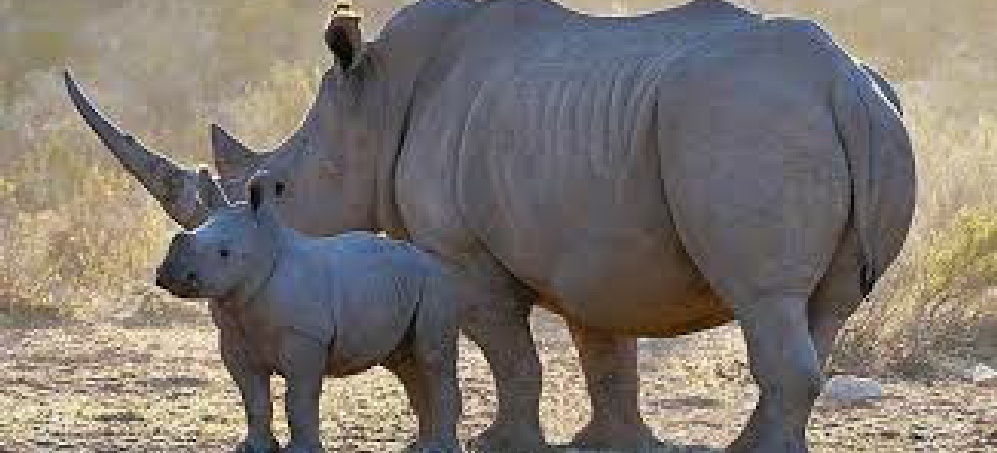rhino: (62, 0, 916, 452), (152, 166, 462, 453)
